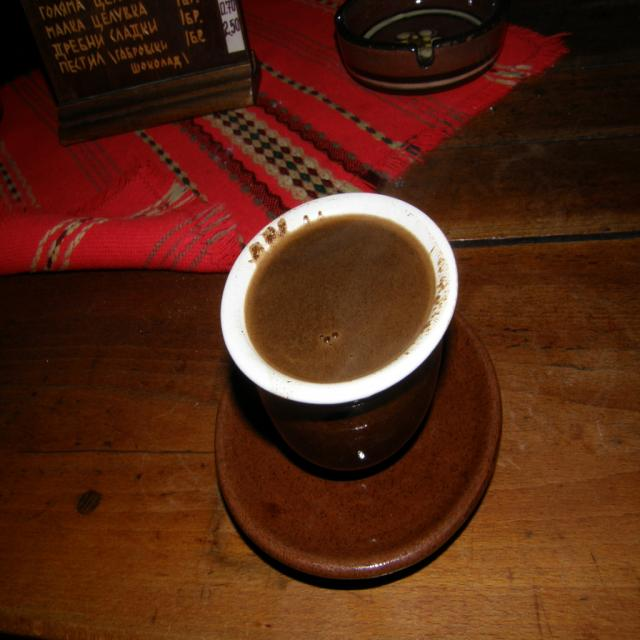Coffee: (243, 220, 440, 388)
